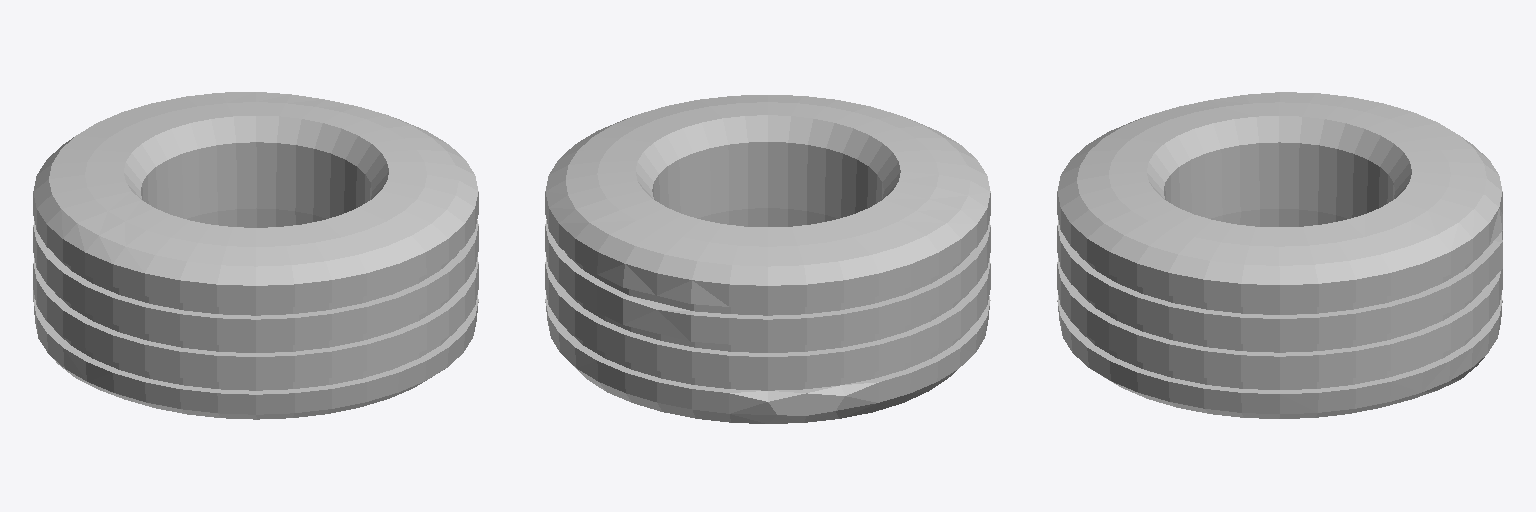
3 views of the same model, side by side, from view 1: azimuth 30°, elevation 25°; view 2: azimuth 150°, elevation 25°; view 3: azimuth 270°, elevation 25° (orthographic).
Parts seen in each view (by area): view 1: Wheel_f_dx_Ferrari_wheel_front_R_metal.001; view 2: Wheel_f_dx_Ferrari_wheel_front_R_metal.001; view 3: Wheel_f_dx_Ferrari_wheel_front_R_metal.001.
Part boxes in pixels (x1,y1,x2,y2): Wheel_f_dx_Ferrari_wheel_front_R_metal.001: (33, 92, 478, 419); Wheel_f_dx_Ferrari_wheel_front_R_metal.001: (545, 95, 990, 423); Wheel_f_dx_Ferrari_wheel_front_R_metal.001: (1057, 92, 1502, 418).
Size of the model in its own units: 3.51 by 1.47 by 3.51.